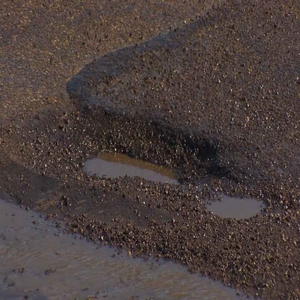pothole: (1, 92, 282, 231)
